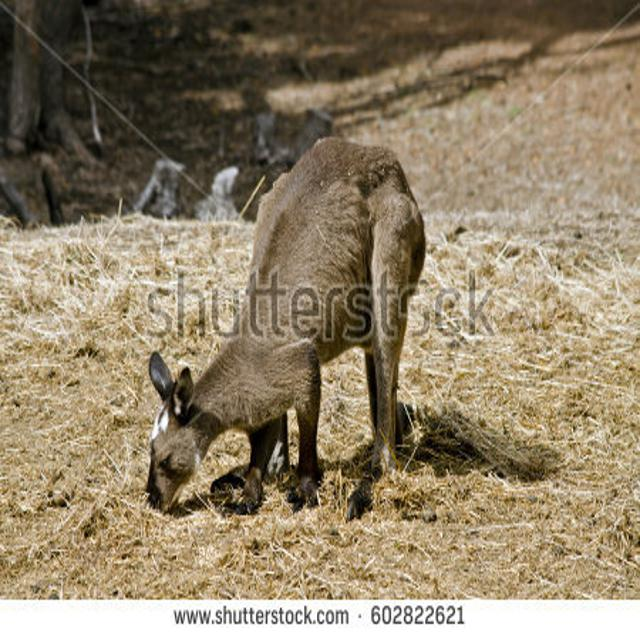kangaroo: (133, 138, 422, 506)
